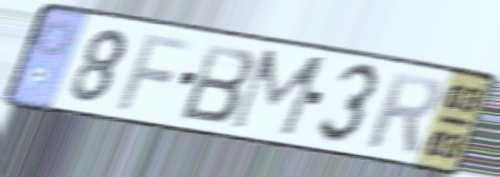3: (313, 62, 386, 149)
8: (68, 26, 130, 106)
B: (177, 40, 261, 126)
F: (113, 29, 199, 113)
M: (224, 46, 333, 141)
R: (363, 67, 446, 156)
